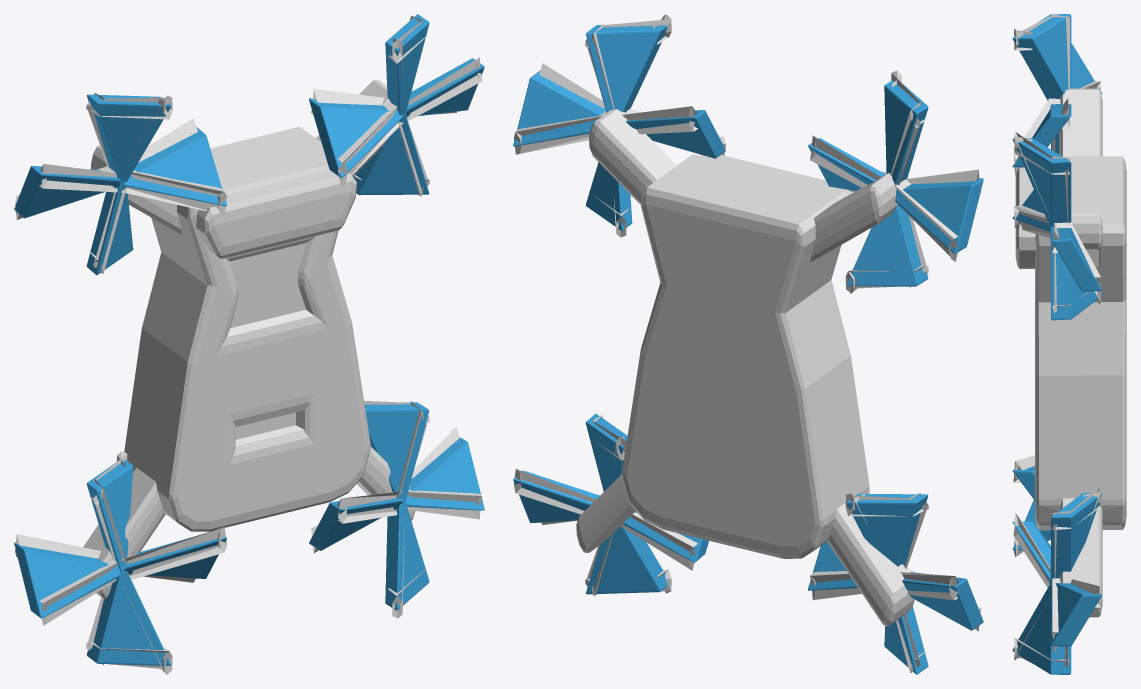
Rendered from Drone.fbx.
The picture shows the model from 3 angles, left to right: view 1: azimuth 30°, elevation 25°; view 2: azimuth 150°, elevation 25°; view 3: azimuth 270°, elevation 25°; orthographic projection. The views are drawn at different scales.
Parts seen in each view (by area): view 1: Drone; view 2: Drone; view 3: Drone.
Boxes of the visible parts, x1=… form: Drone: x1=14, y1=14, x2=484, y2=674; Drone: x1=513, y1=14, x2=983, y2=674; Drone: x1=1012, y1=14, x2=1126, y2=674.
Bounding box in the file's own units: 0.5848 × 0.7284 × 0.1423.
